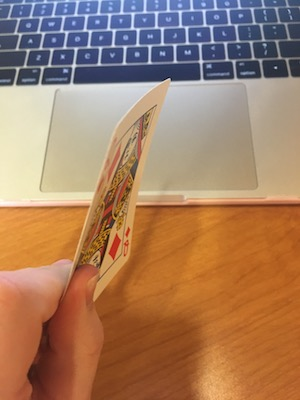QueenOfDiamonds: (62, 75, 176, 306)
